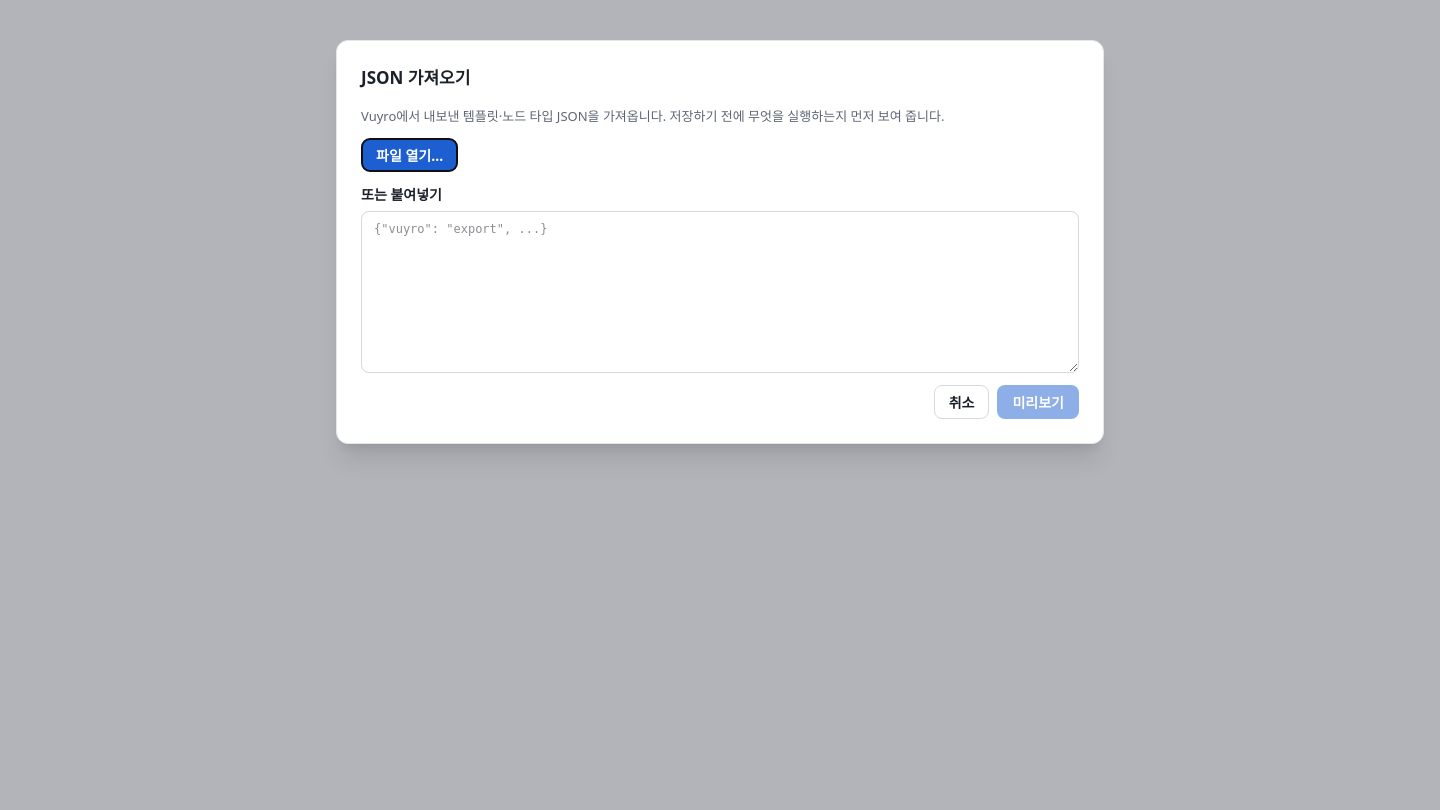
Scenario: JSON import › a file the person picks is read by the main process; unreadable text says why and saves nothing
This screenshot has width=1440, height=810.
Click the button "파일 열기…". click: (410,155)
box: [361,138,458,172]
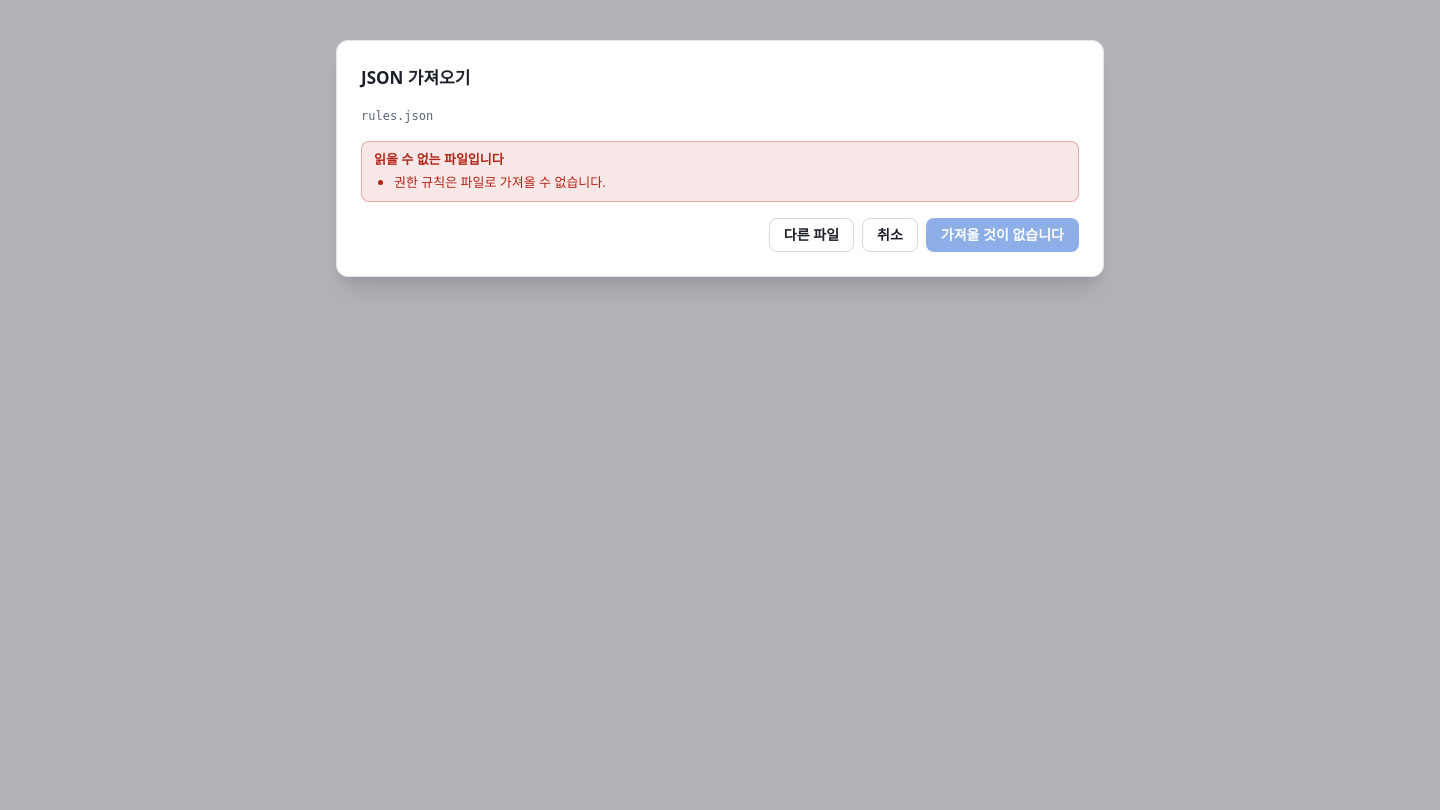
Expected: the text "읽을 수 없는 파일입니다" is shown, [374,150,504,168]
Expected: the list item "권한 규칙은 파일로 가져올 수 없습니다." is shown, [394,173,606,191]
Expected: the text "rules.json" is shown, [361,108,433,122]
